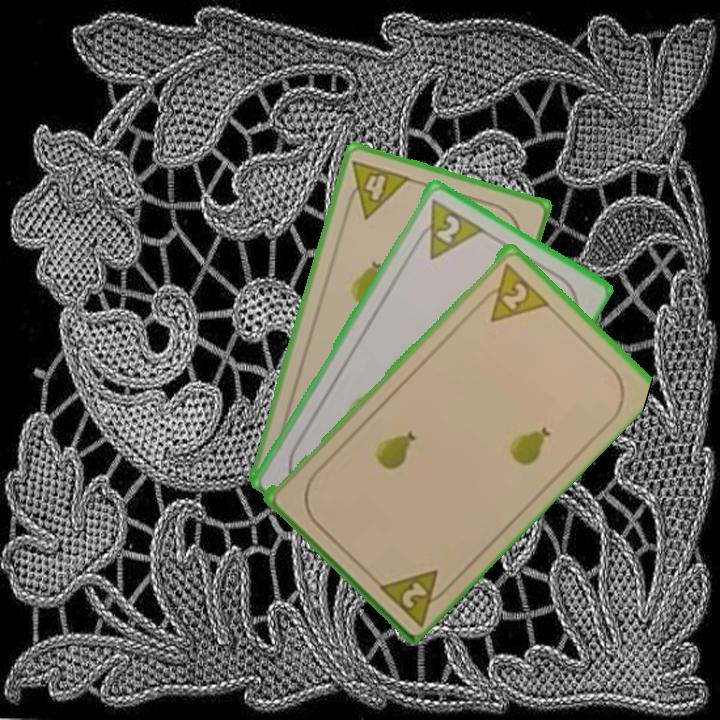2p: (474, 257, 551, 325), (409, 195, 486, 262), (373, 565, 455, 627)
4p: (340, 156, 413, 222)
